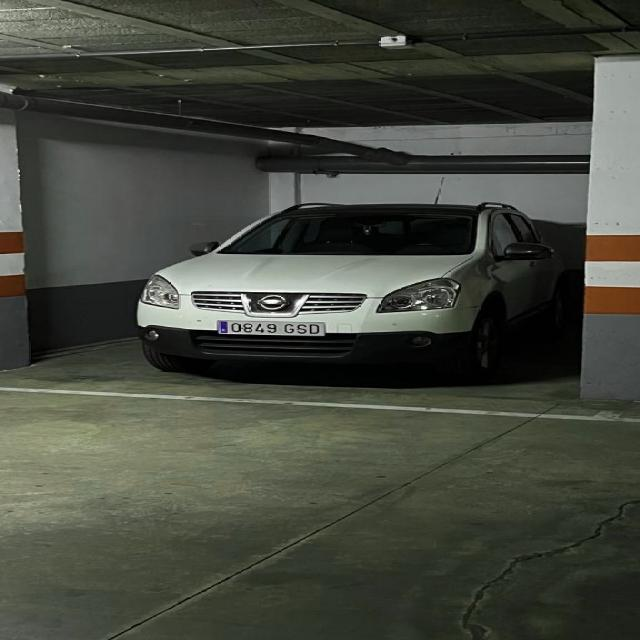License-Plate: (216, 318, 327, 338)
